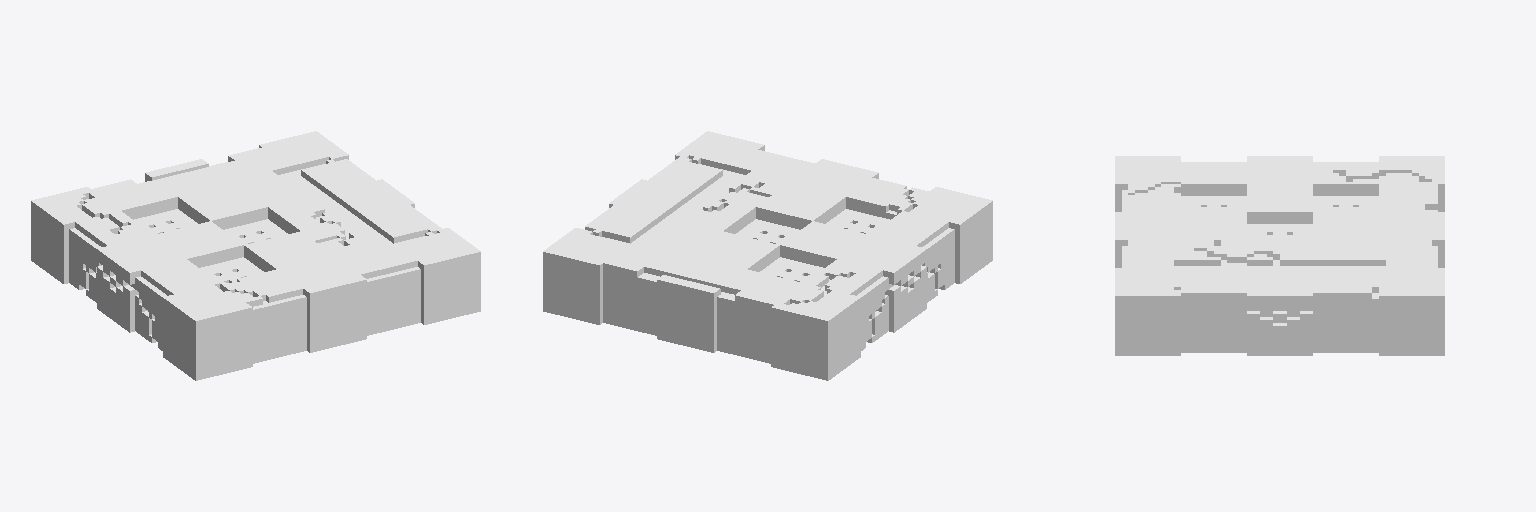
The model's file is Desert-27-Floor_Trapped.obj.
3 renders of one model, left to right at view 1: azimuth 30°, elevation 25°; view 2: azimuth 150°, elevation 25°; view 3: azimuth 270°, elevation 25°, orthographic.
Visible parts, largest first — view 1: Floor_Trapped; view 2: Floor_Trapped; view 3: Floor_Trapped.
Part boxes in pixels (left/top/right/bottom): Floor_Trapped: left=31, top=131, right=480, bottom=380; Floor_Trapped: left=543, top=131, right=992, bottom=380; Floor_Trapped: left=1115, top=156, right=1444, bottom=355.
Size of the model in its own units: 5 by 1 by 5.